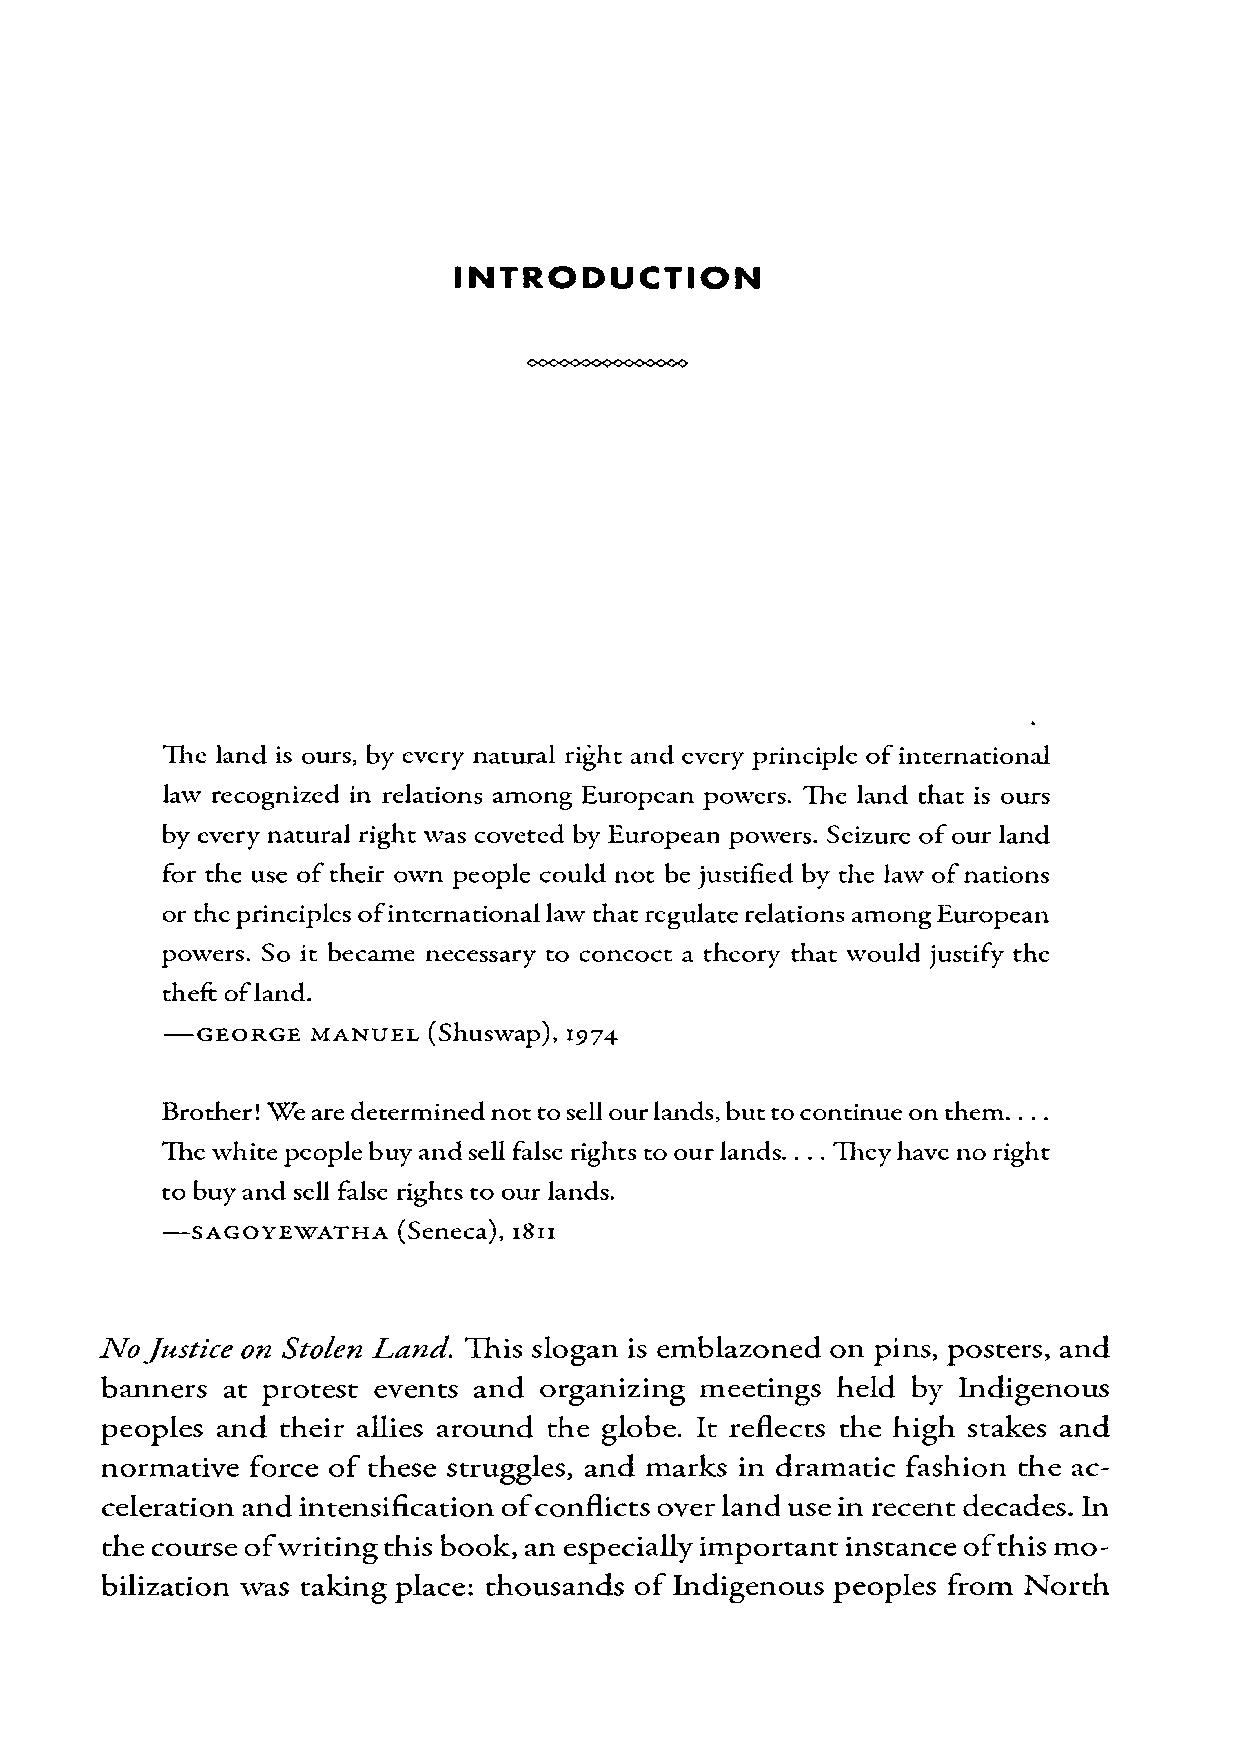chapter: (450, 260, 761, 293)
content: (97, 741, 1111, 1604)
